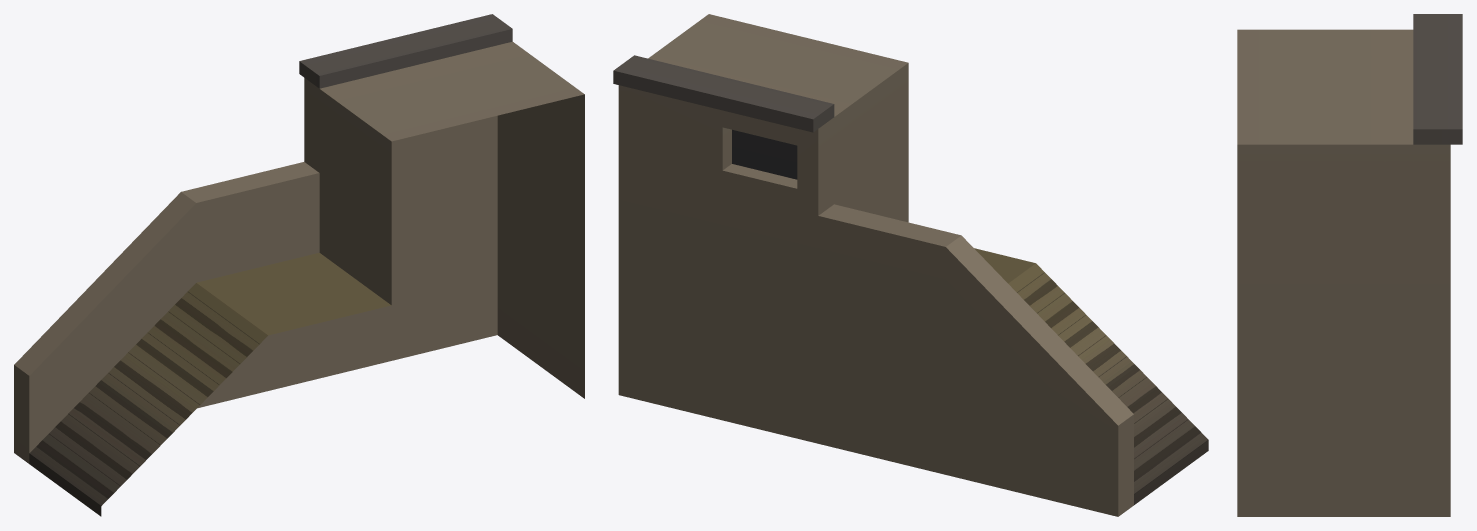
File: Fort_Extension.fbx
3 views of the same model, side by side, from view 1: azimuth 30°, elevation 25°; view 2: azimuth 150°, elevation 25°; view 3: azimuth 270°, elevation 25° (orthographic). The views are drawn at different scales.
Visible parts, largest first — view 1: Fort_Extension; view 2: Fort_Extension; view 3: Fort_Extension.
Part boxes in pixels (box(x1,y1,x2,y2)): Fort_Extension: box(14, 14, 584, 516); Fort_Extension: box(613, 14, 1208, 516); Fort_Extension: box(1237, 14, 1462, 516).
Size of the model in its own units: 646 by 405 by 214.
